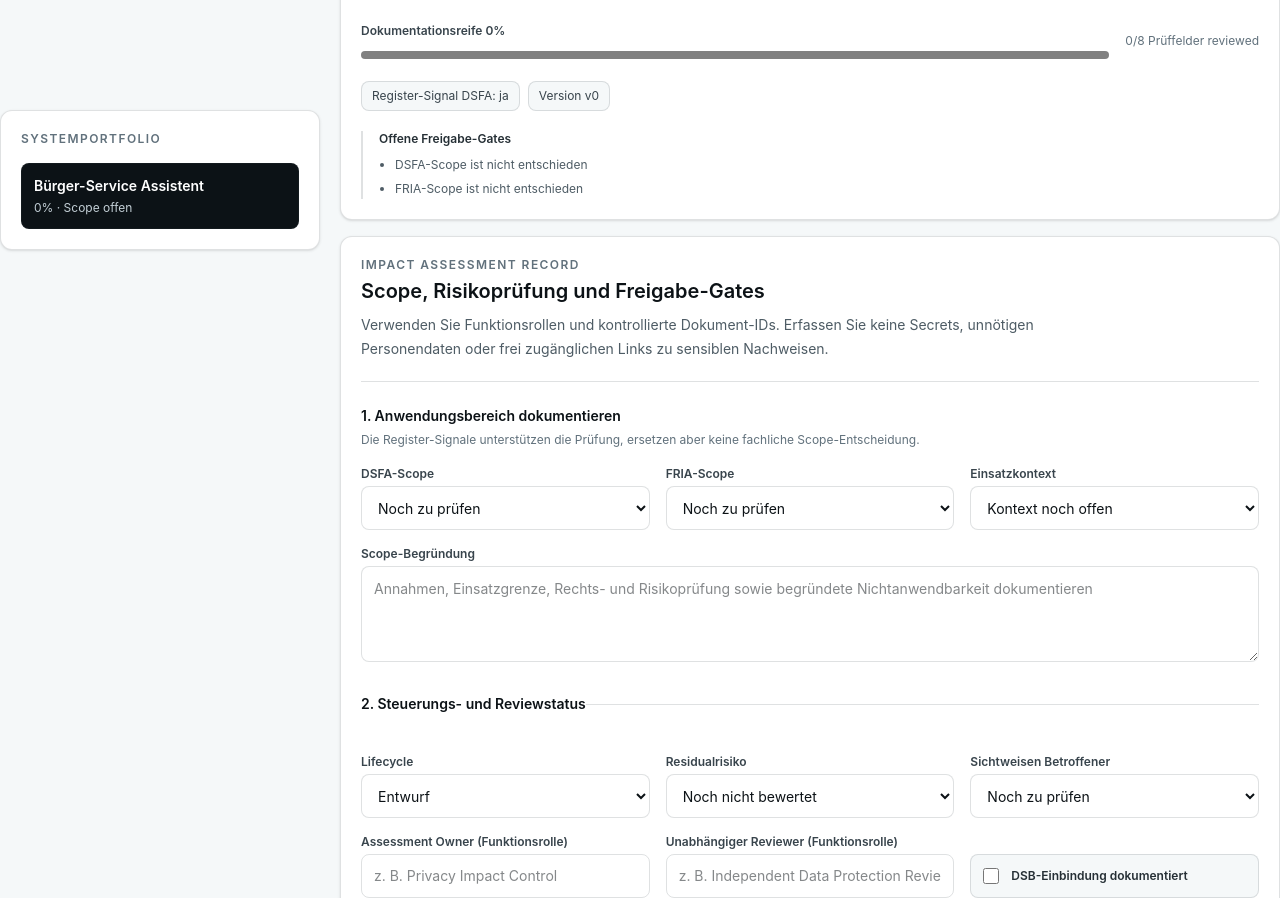
Test case: ImpactAssessmentWorkspace › requires a rationale for a not-required scope decision
The width and height of the screenshot is (1280, 898).
(page scrolled)
Select "Nicht erforderlich, begründet" in the dropdown labelled "DSFA-Scope". click: (505, 508)
box: [361,486,650,530]
(page scrolled)
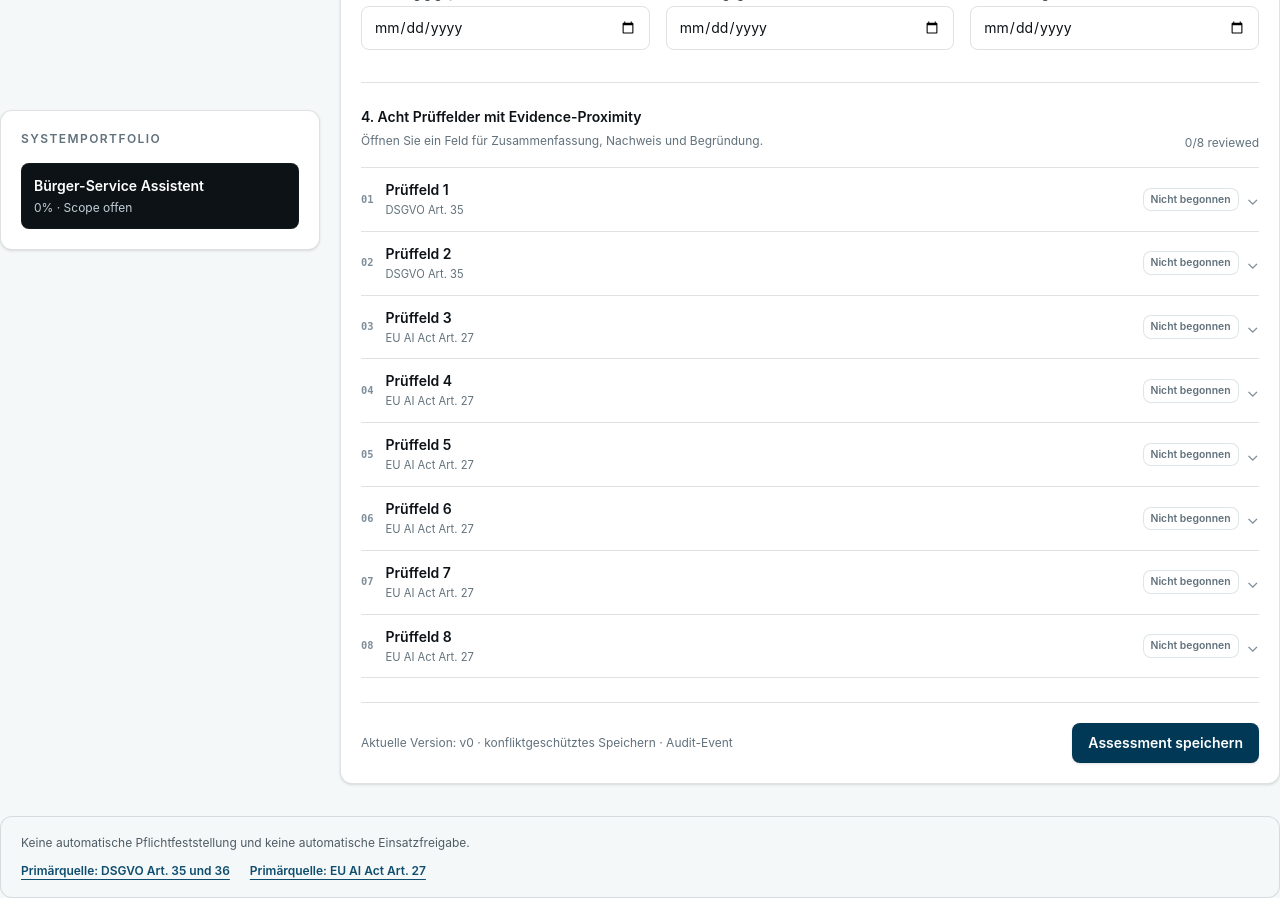
Click the button "Assessment speichern". click: (1166, 743)
box: [1072,723,1259,763]
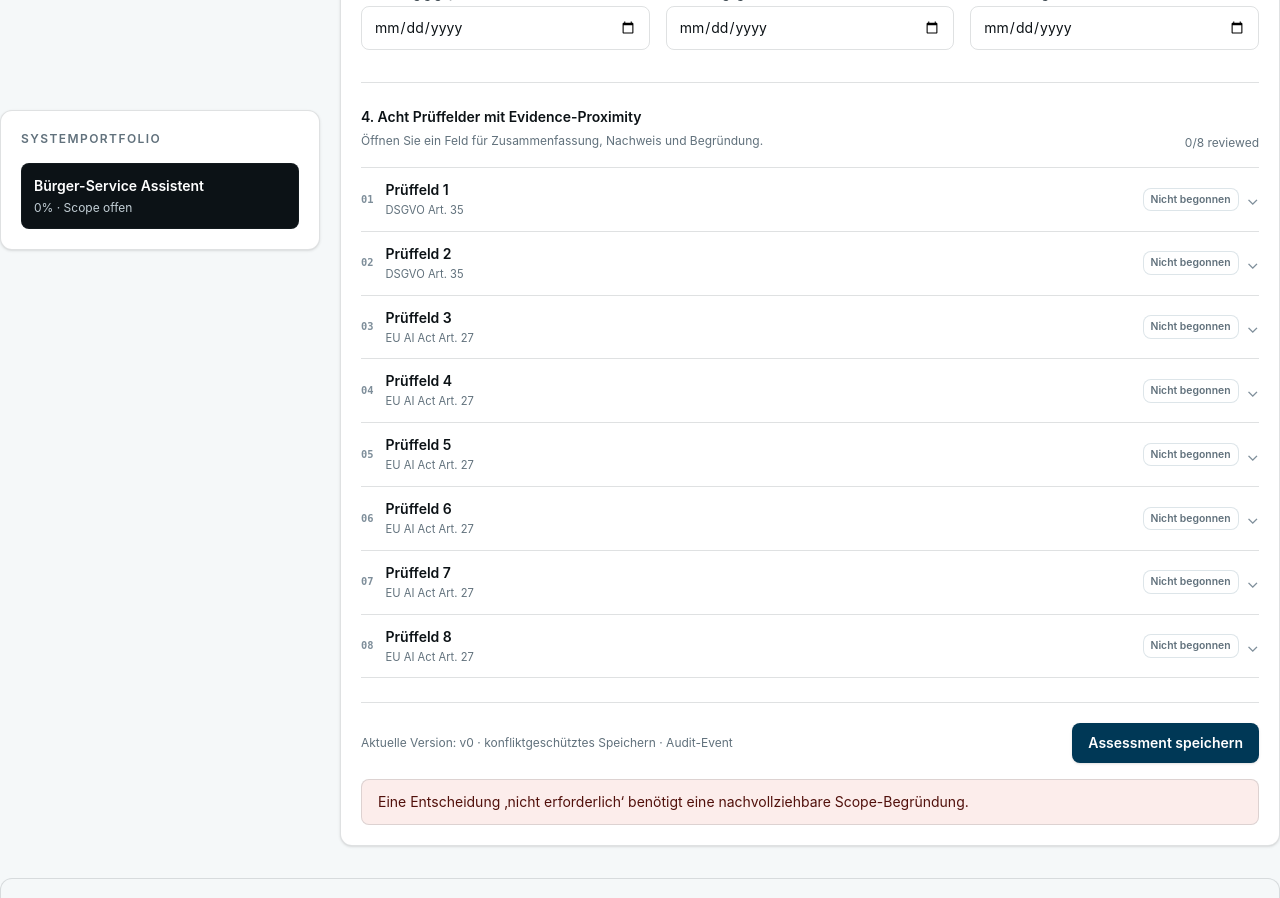
Now the message shows "Scope-Begründung", box [378,793,969,810]
